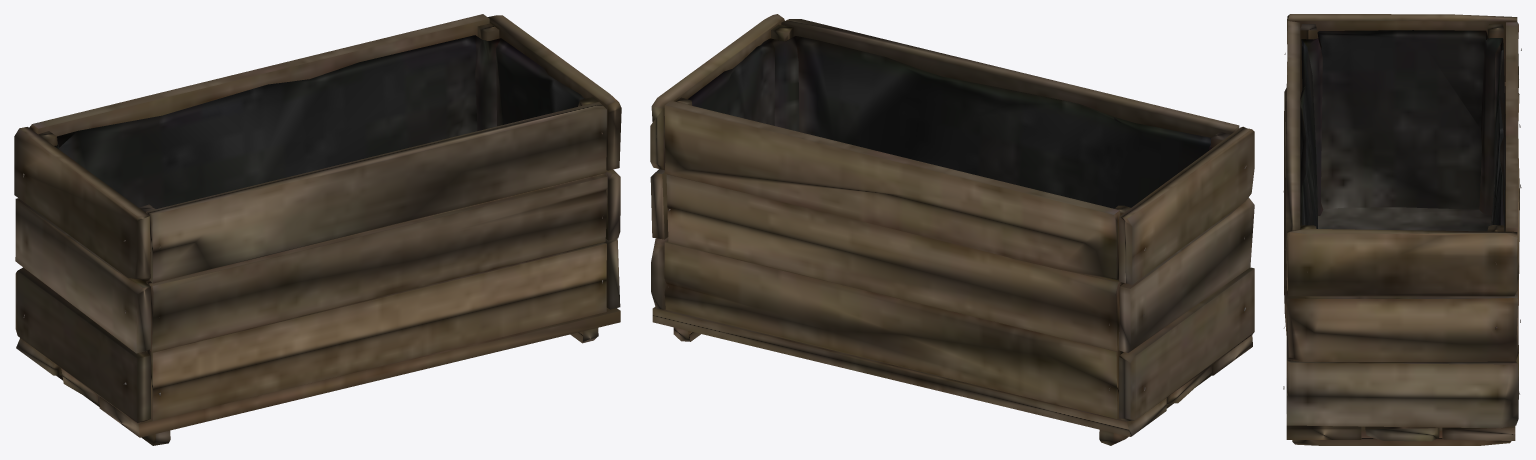
The model's file is planter.glb.
3 views of the same model, side by side, from view 1: azimuth 30°, elevation 25°; view 2: azimuth 150°, elevation 25°; view 3: azimuth 270°, elevation 25° (orthographic). The views are drawn at different scales.
Parts seen in each view (by area): view 1: planter_box_01; view 2: planter_box_01; view 3: planter_box_01.
Part boxes in pixels (x1=…): planter_box_01: x1=14, y1=14, x2=621, y2=445; planter_box_01: x1=650, y1=14, x2=1254, y2=445; planter_box_01: x1=1283, y1=14, x2=1521, y2=445.
Bounding box in the file's own units: 0.9126 × 0.4249 × 0.4135.
Materials: 1 (1 with a texture image).
